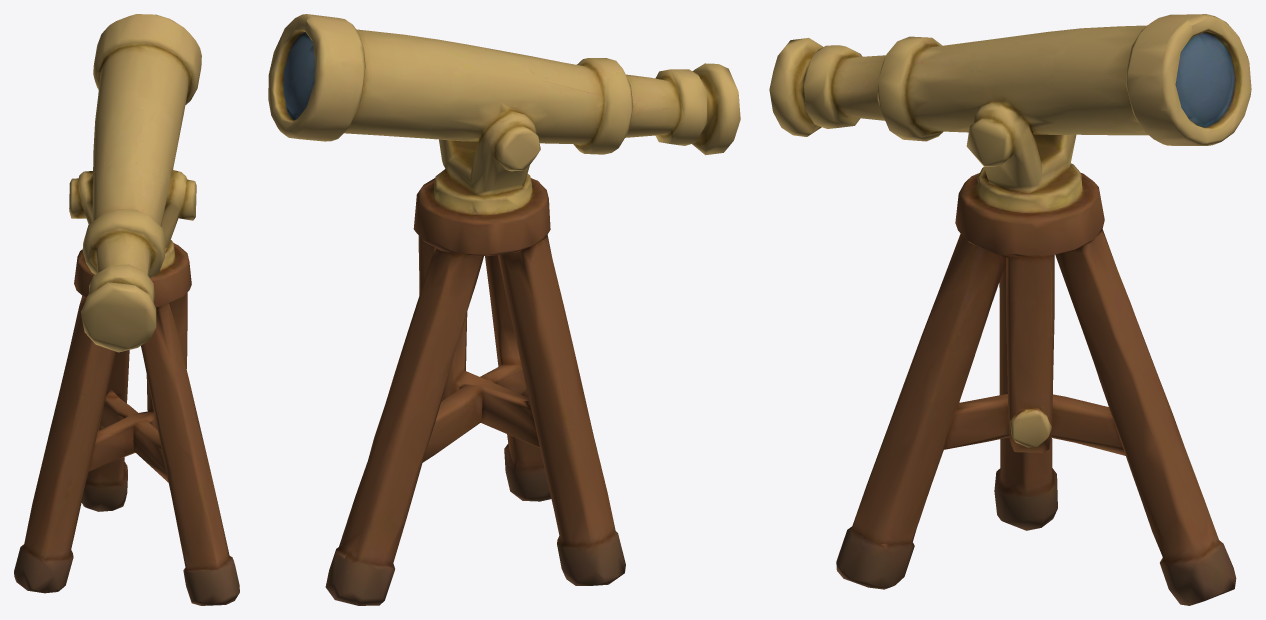
File: f-telescope.glb
3 views of the same model, side by side, from view 1: azimuth 30°, elevation 25°; view 2: azimuth 150°, elevation 25°; view 3: azimuth 270°, elevation 25° (orthographic). The views are drawn at different scales.
Parts seen in each view (by area): view 1: tripo_node_b69ed16f-1faf-4561-8976-e7bc88448ecc; view 2: tripo_node_b69ed16f-1faf-4561-8976-e7bc88448ecc; view 3: tripo_node_b69ed16f-1faf-4561-8976-e7bc88448ecc.
Boxes of the visible parts, x1,y1,x2,y2 form: tripo_node_b69ed16f-1faf-4561-8976-e7bc88448ecc: [14, 14, 239, 605]; tripo_node_b69ed16f-1faf-4561-8976-e7bc88448ecc: [268, 14, 740, 605]; tripo_node_b69ed16f-1faf-4561-8976-e7bc88448ecc: [769, 14, 1251, 605].
Size of the model in its own units: 0.5607 by 1 by 0.7202.
Materials: 1 (1 with a texture image).
